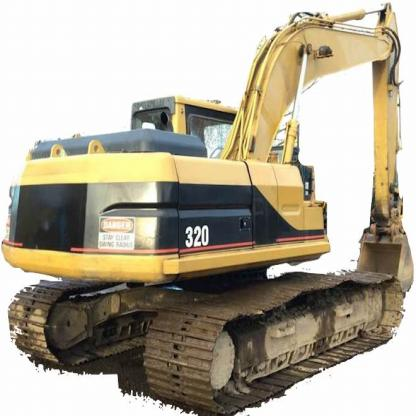excavator: (9, 5, 413, 412)
